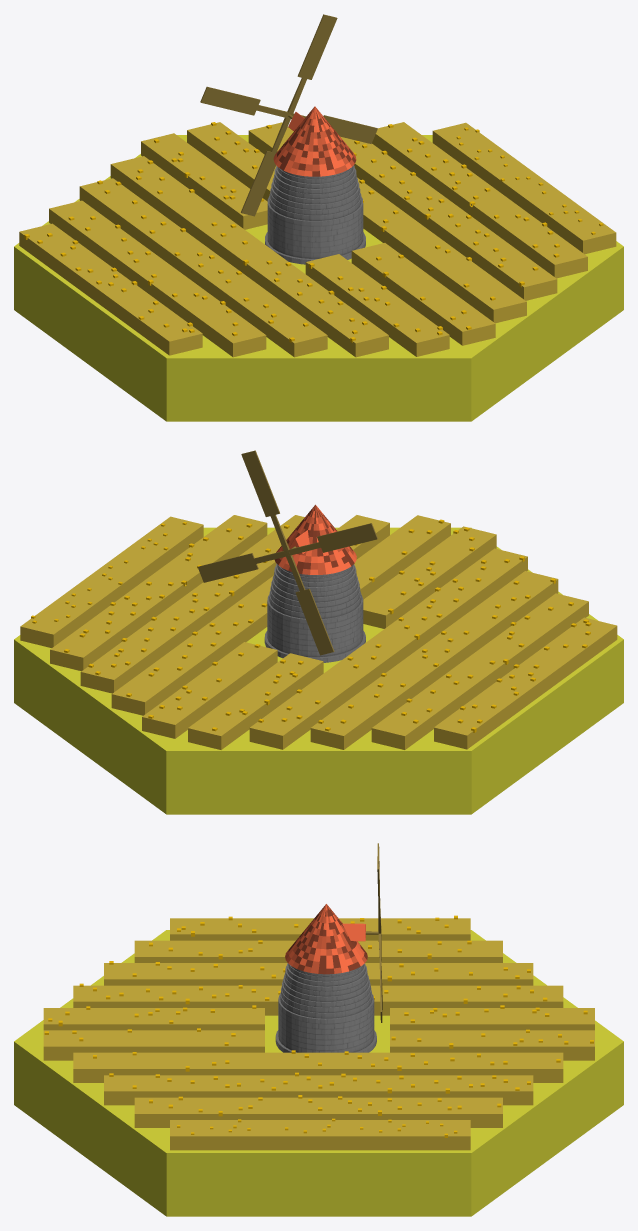
File: Tuile_Champ_N4.fbx
The picture shows the model from 3 angles, top to bottom: view 1: azimuth 30°, elevation 25°; view 2: azimuth 150°, elevation 25°; view 3: azimuth 270°, elevation 25°; orthographic projection.
Visible parts, largest first — view 1: nIV3, Circle, Niv4; view 2: nIV3, Circle, Niv4; view 3: nIV3, Circle, Niv4.
Part boxes in pixels (<box>): nIV3: <box>19,122,616,357</box>; Circle: <box>14,135,623,421</box>; Niv4: <box>141,14,495,356</box>; nIV3: <box>20,515,617,749</box>; Circle: <box>14,527,623,814</box>; Niv4: <box>142,450,496,749</box>; nIV3: <box>73,915,563,1150</box>; Circle: <box>14,930,623,1216</box>; Niv4: <box>43,843,594,1060</box>.
Bounding box in the file's own units: 107 × 59.41 × 124.
